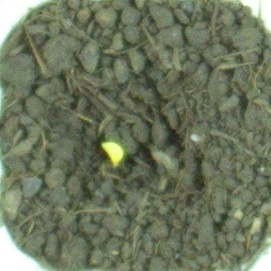chilli seed: (99, 139, 126, 167)
